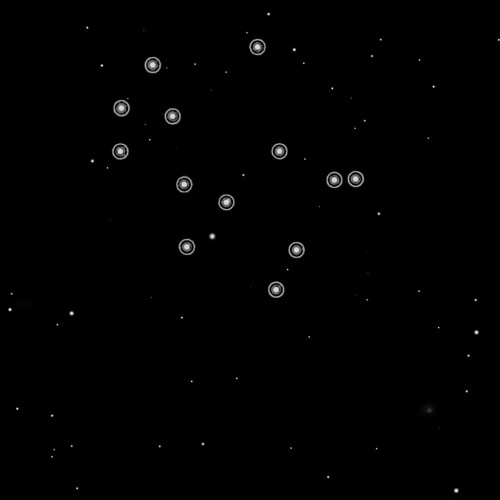gemini: (90, 33, 371, 318)
